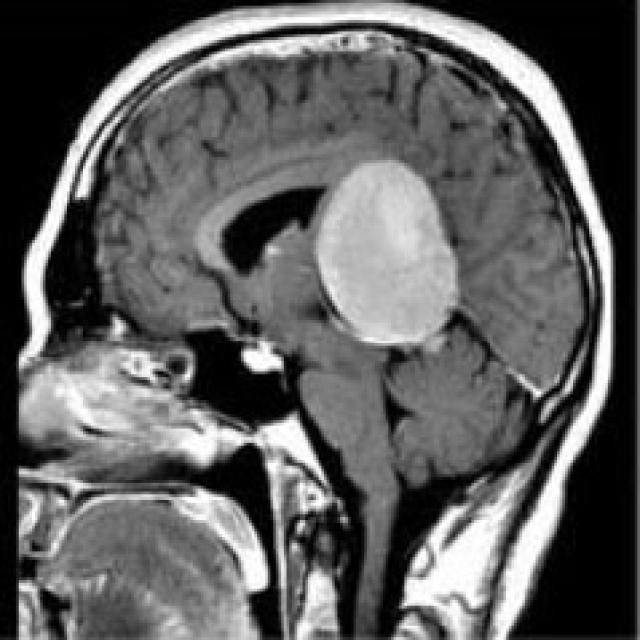brain_tumor: (314, 160, 457, 345)
